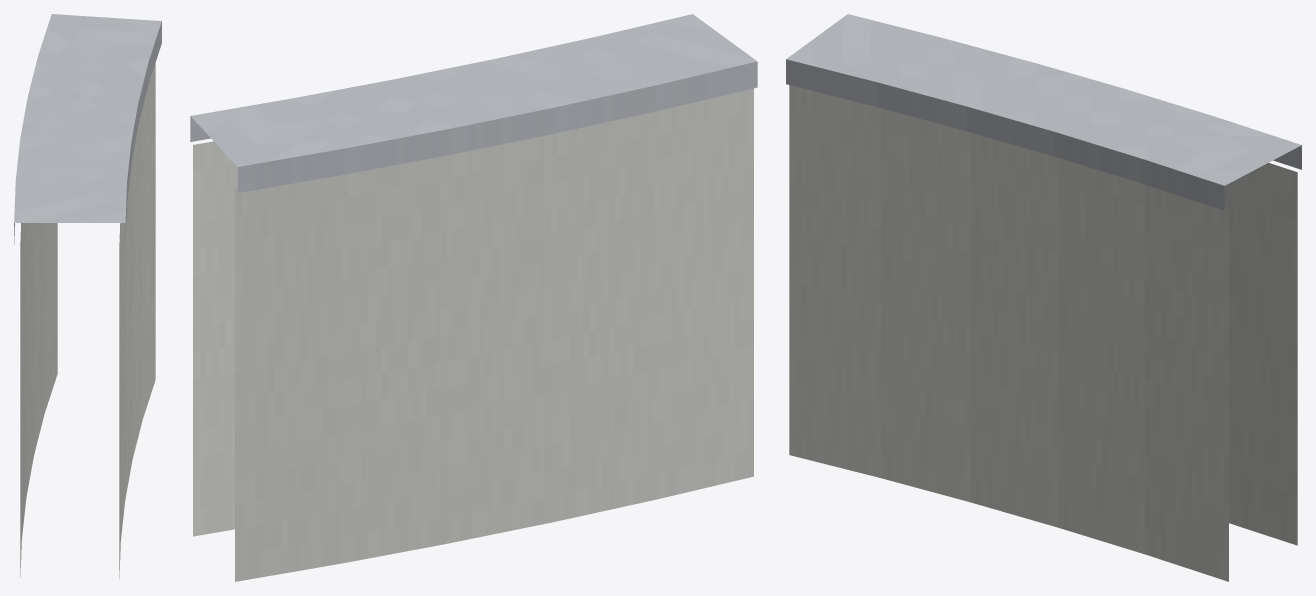
Rendered from curve_board_05.obj.
The picture shows the model from 3 angles, left to right: view 1: azimuth 30°, elevation 25°; view 2: azimuth 150°, elevation 25°; view 3: azimuth 270°, elevation 25°; orthographic projection. The views are drawn at different scales.
Parts seen in each view (by area): view 1: curve_board_05; view 2: curve_board_05; view 3: curve_board_05.
Boxes of the visible parts, x1,y1,x2,y2 form: curve_board_05: [14, 14, 161, 578]; curve_board_05: [190, 14, 757, 581]; curve_board_05: [786, 14, 1301, 581].
Size of the model in its own units: 0.9254 by 1 by 1.17.
